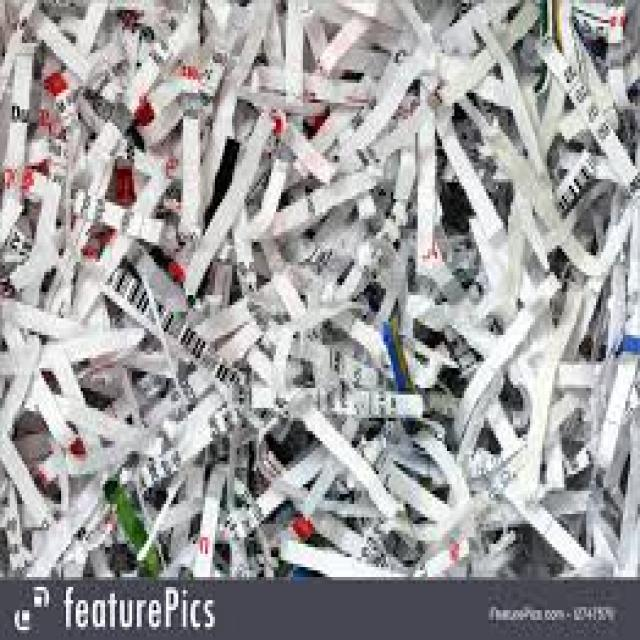paper: (0, 0, 638, 577)
